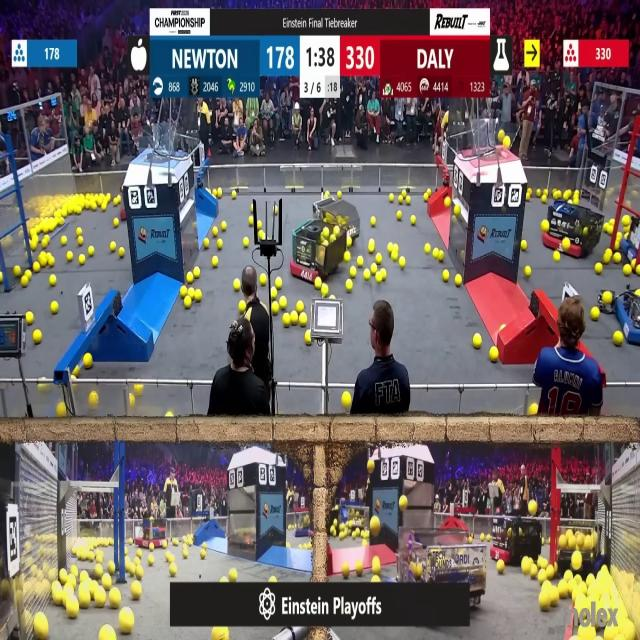ball_airborne: (528, 500, 537, 514), (399, 495, 406, 509), (366, 460, 374, 472), (502, 137, 509, 149), (498, 130, 504, 144)
ball_ground: (118, 611, 132, 636), (67, 599, 79, 618), (550, 588, 561, 608), (109, 590, 120, 609), (78, 592, 90, 608), (95, 591, 106, 608), (100, 627, 114, 640), (538, 594, 548, 612), (132, 584, 142, 600), (601, 290, 612, 304), (342, 393, 352, 408), (373, 559, 382, 575), (90, 392, 99, 408), (58, 404, 67, 419), (562, 240, 570, 256), (615, 333, 624, 347), (86, 353, 94, 368), (522, 558, 530, 573), (529, 405, 538, 418), (103, 574, 112, 587), (472, 335, 480, 349), (34, 331, 42, 345), (297, 313, 305, 327), (282, 313, 290, 327), (343, 562, 350, 577), (545, 566, 553, 579), (491, 348, 498, 362), (497, 560, 504, 574), (592, 308, 600, 320), (595, 264, 603, 276), (170, 564, 178, 576), (230, 569, 238, 581), (279, 296, 287, 308), (136, 566, 144, 578), (96, 552, 104, 564), (27, 312, 34, 325), (290, 312, 297, 325), (61, 569, 68, 582), (624, 266, 632, 277), (376, 272, 384, 283), (50, 303, 57, 315), (235, 280, 242, 292), (239, 302, 246, 314), (455, 275, 462, 287), (193, 289, 200, 301), (367, 241, 374, 253), (604, 252, 611, 264), (96, 564, 103, 576), (108, 561, 115, 573), (541, 220, 548, 232), (530, 566, 537, 578), (614, 252, 622, 262), (524, 268, 532, 278), (554, 189, 562, 199), (80, 571, 88, 581), (306, 333, 312, 346), (356, 561, 362, 574), (40, 252, 46, 265), (186, 273, 193, 284), (444, 271, 451, 282), (363, 270, 370, 281), (259, 275, 266, 286), (183, 296, 190, 307), (276, 278, 283, 289), (180, 286, 187, 297), (606, 223, 613, 234), (273, 303, 279, 315), (398, 256, 404, 268), (370, 574, 379, 582), (42, 236, 48, 248), (296, 303, 303, 313), (67, 251, 74, 261), (315, 279, 322, 289), (22, 277, 29, 287), (186, 286, 193, 296), (220, 220, 227, 230), (31, 240, 38, 250), (130, 564, 137, 574), (212, 256, 218, 267), (347, 280, 353, 291), (322, 285, 328, 296), (350, 268, 356, 279), (47, 255, 53, 266), (370, 265, 376, 276), (193, 268, 199, 279), (272, 287, 278, 298), (454, 206, 460, 217), (270, 575, 278, 583), (445, 199, 452, 208), (61, 237, 68, 246), (623, 217, 630, 226), (25, 271, 32, 280), (71, 566, 78, 575), (329, 527, 336, 536), (49, 276, 55, 286), (555, 251, 561, 261), (79, 254, 85, 264), (344, 252, 350, 262), (34, 264, 40, 274), (521, 241, 527, 251), (217, 240, 223, 250), (110, 242, 116, 252), (357, 256, 363, 266), (13, 268, 19, 278), (148, 556, 154, 566), (388, 243, 394, 253), (213, 226, 218, 237), (432, 248, 437, 259), (440, 250, 445, 261), (113, 218, 119, 227), (118, 248, 124, 257), (77, 237, 83, 246), (258, 232, 264, 241), (396, 211, 402, 220), (168, 554, 174, 563), (347, 239, 353, 248), (340, 534, 346, 543), (102, 204, 108, 213), (244, 238, 249, 248), (90, 246, 95, 256), (370, 216, 375, 226), (205, 239, 210, 249), (377, 253, 382, 263), (425, 244, 430, 254), (183, 550, 188, 560), (74, 365, 79, 375), (93, 202, 98, 212), (248, 216, 254, 224), (391, 252, 397, 260), (113, 199, 119, 207), (256, 220, 262, 228), (216, 188, 222, 196), (172, 537, 178, 545), (75, 206, 81, 214), (541, 190, 547, 198), (412, 215, 417, 224), (387, 195, 392, 204), (616, 242, 621, 251), (0, 273, 4, 284), (76, 227, 82, 234), (219, 576, 226, 582), (338, 190, 343, 198), (636, 266, 640, 276), (106, 192, 111, 200), (527, 192, 532, 200), (632, 258, 637, 266), (149, 546, 154, 554), (202, 551, 206, 560), (408, 197, 412, 206), (362, 540, 368, 546), (164, 540, 169, 547), (618, 233, 623, 240), (137, 551, 142, 558), (398, 198, 403, 205), (424, 193, 428, 201), (624, 234, 629, 240), (286, 542, 291, 548), (467, 536, 472, 542), (234, 191, 238, 198), (275, 207, 279, 214), (204, 541, 208, 548), (536, 188, 540, 195), (123, 547, 127, 554), (482, 534, 486, 540), (250, 206, 253, 213), (130, 537, 133, 544)
goal: (466, 125, 520, 160), (130, 130, 188, 160)
robot_blue: (404, 524, 488, 616), (556, 522, 600, 574), (620, 285, 640, 343), (344, 507, 369, 532), (294, 513, 313, 536)
robot_red: (544, 191, 602, 258), (290, 220, 343, 284), (488, 515, 540, 563), (136, 516, 166, 548)
